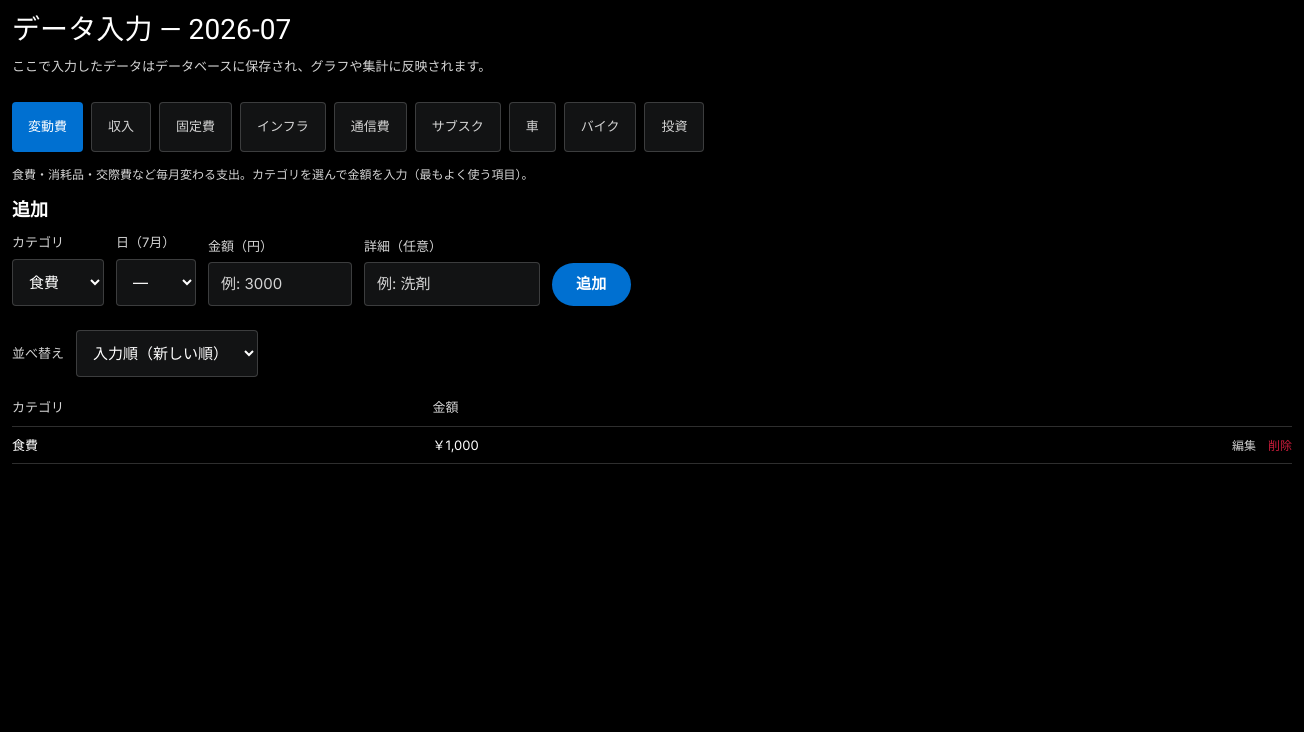
EntryTab - 編集 › キャンセルすると編集フォームが閉じて元の表示行に戻る
What coordinates should you click on to do the following:
click the button "編集"
I would click on:
 (1244, 445)
Its box is [1232,436,1256,455].
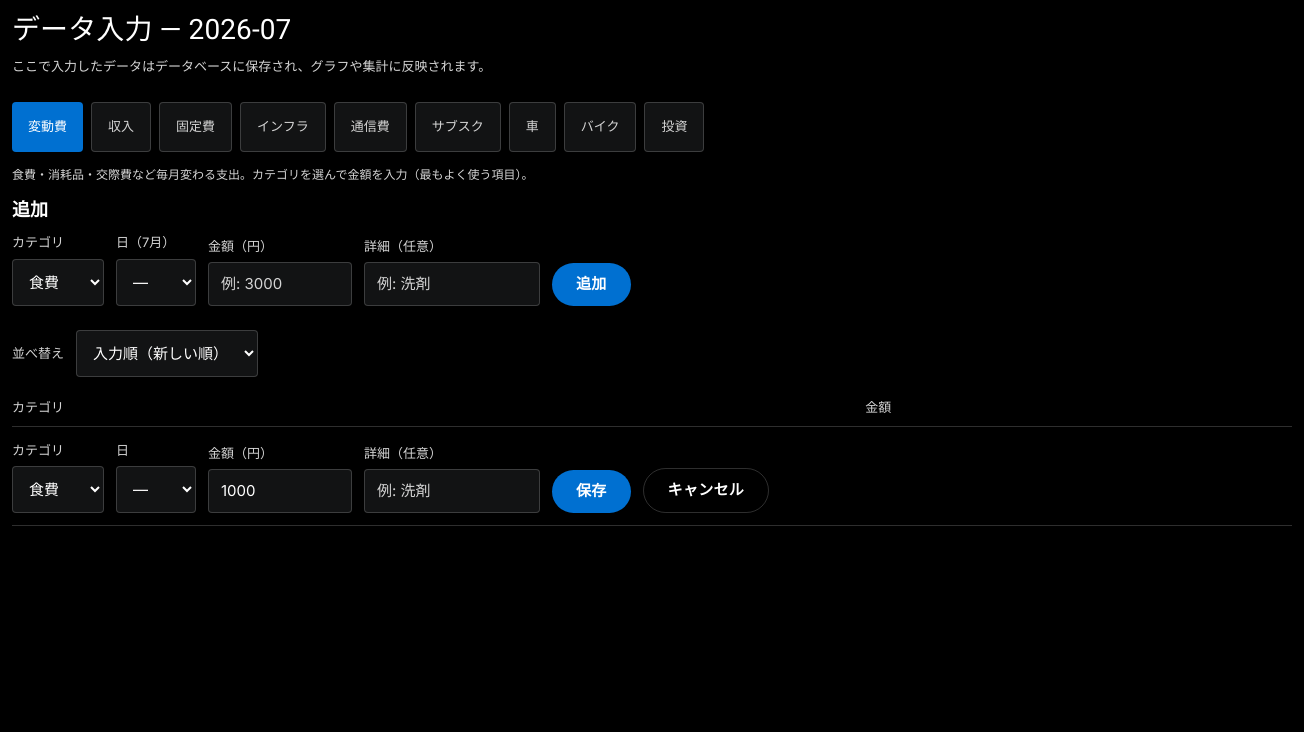
What coordinates should you click on to do the following:
click the button "キャンセル"
I would click on:
 (706, 491)
Its box is [643,468,769,513].
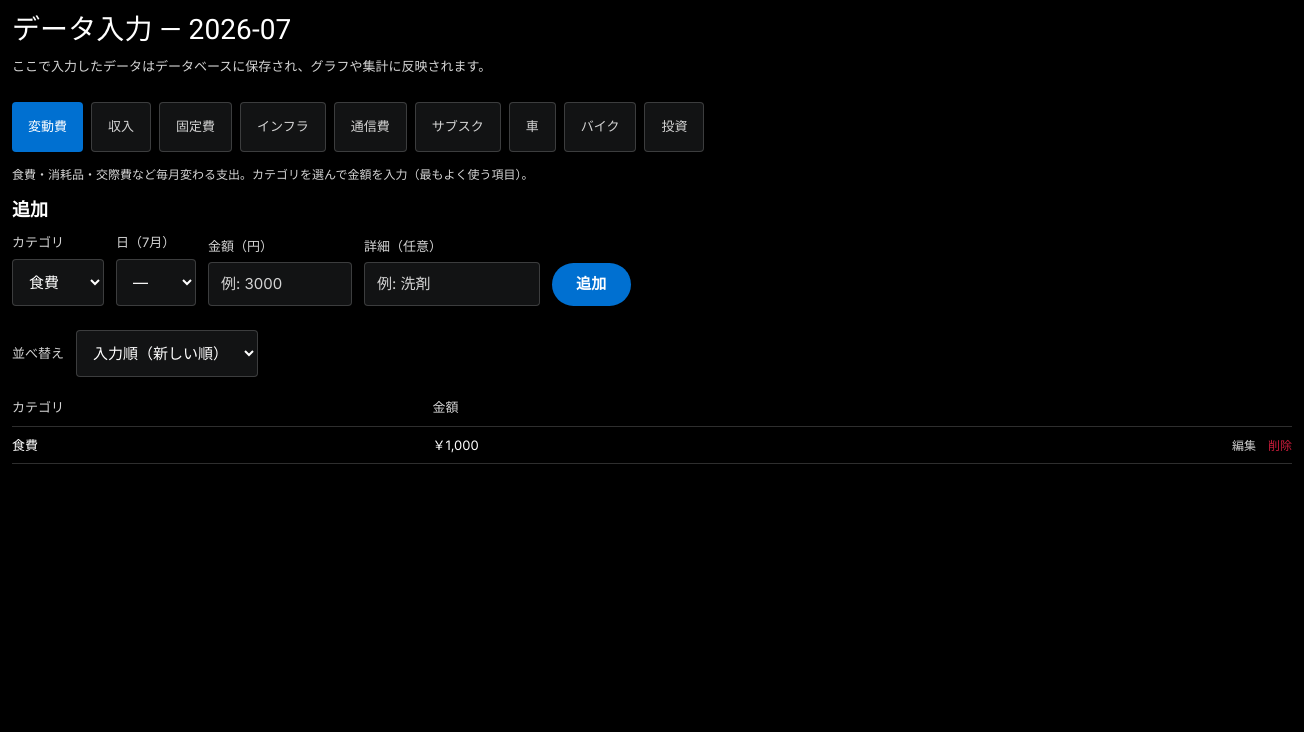
Check: the button "編集" is shown, box [1232,436,1256,455]
